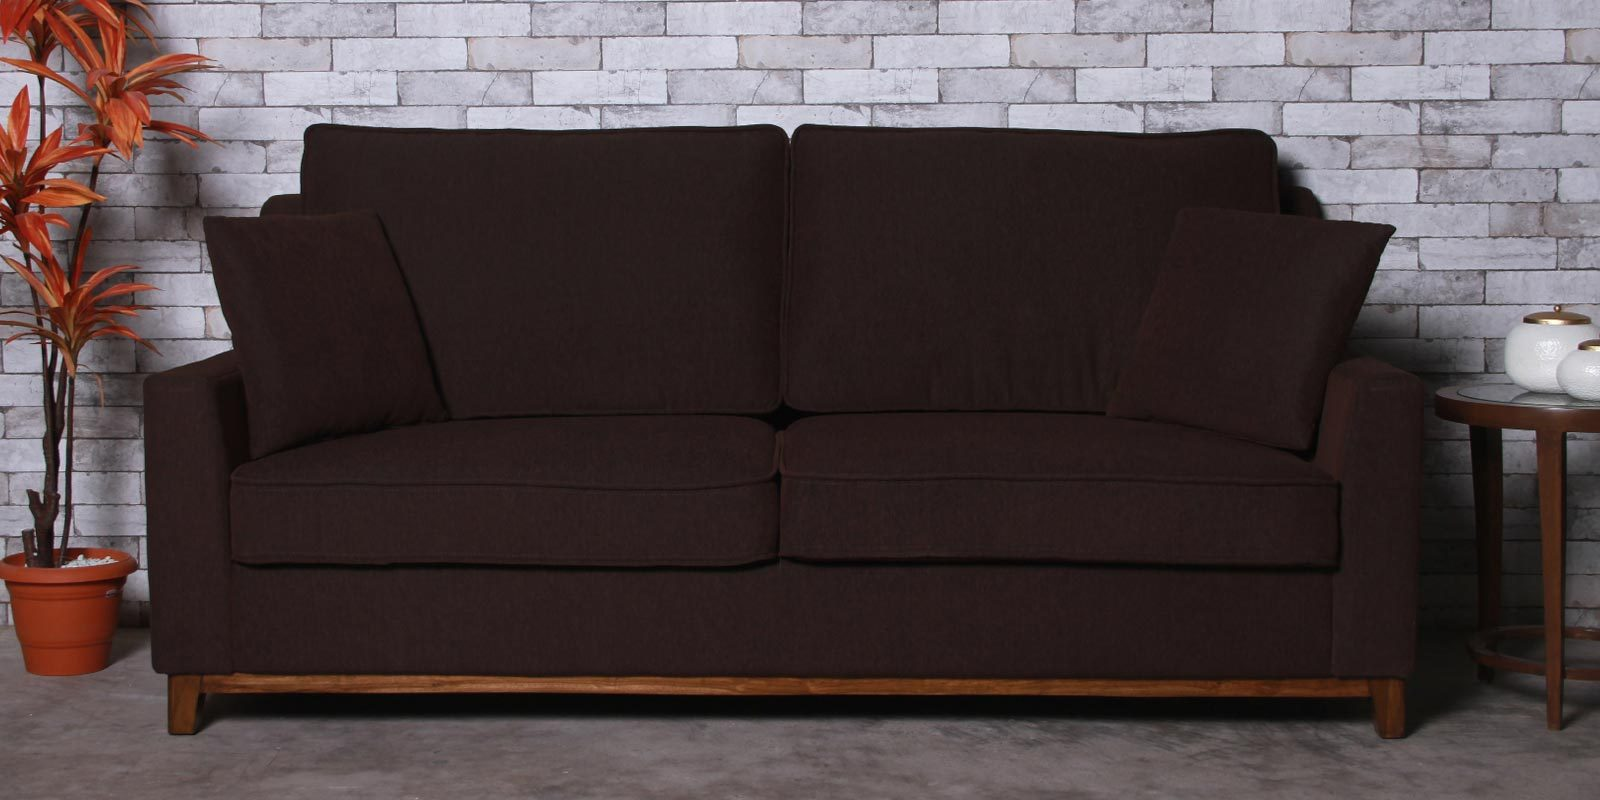Diego Three Seater Sofa in Chestnut Brown Colour by CasaCraft: (150, 118, 1421, 779)
